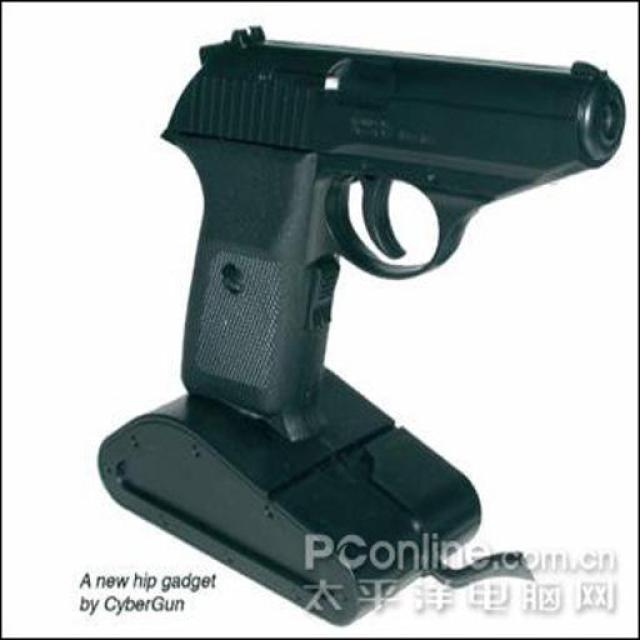pistol: (160, 23, 625, 431)
